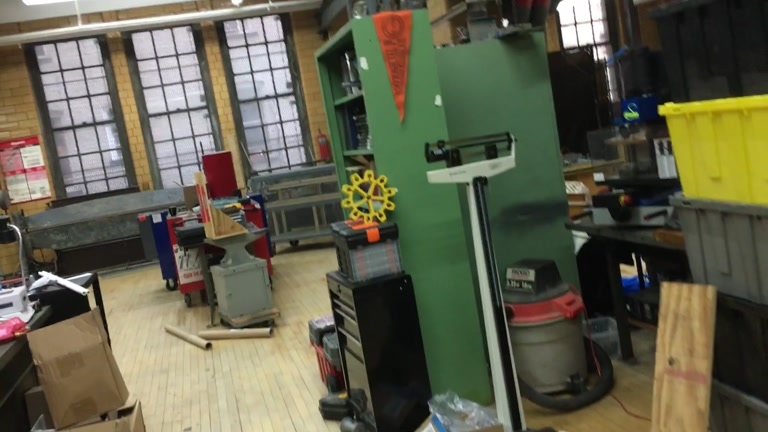gear: (342, 168, 394, 226)
